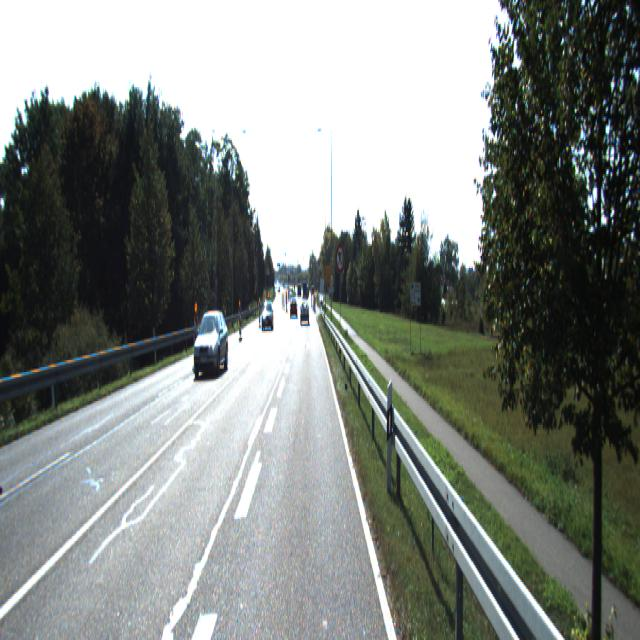Car: (191, 306, 229, 382), (261, 301, 273, 332), (300, 300, 310, 324)
